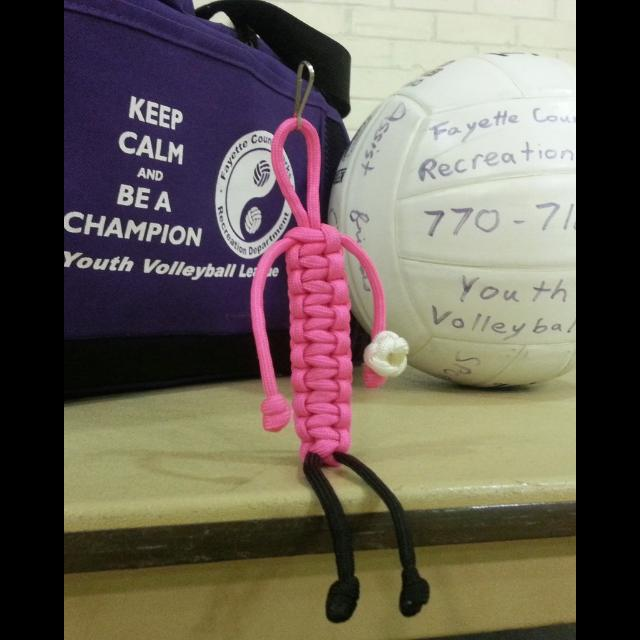Football: (324, 48, 576, 388)
